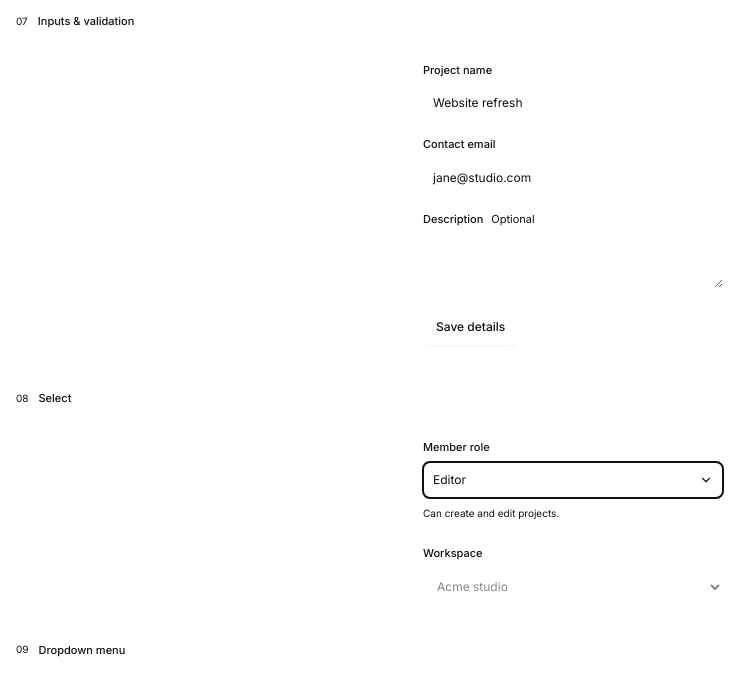
Scenario: Playground form components › supports role selection from the keyboard
Press Arrowdown
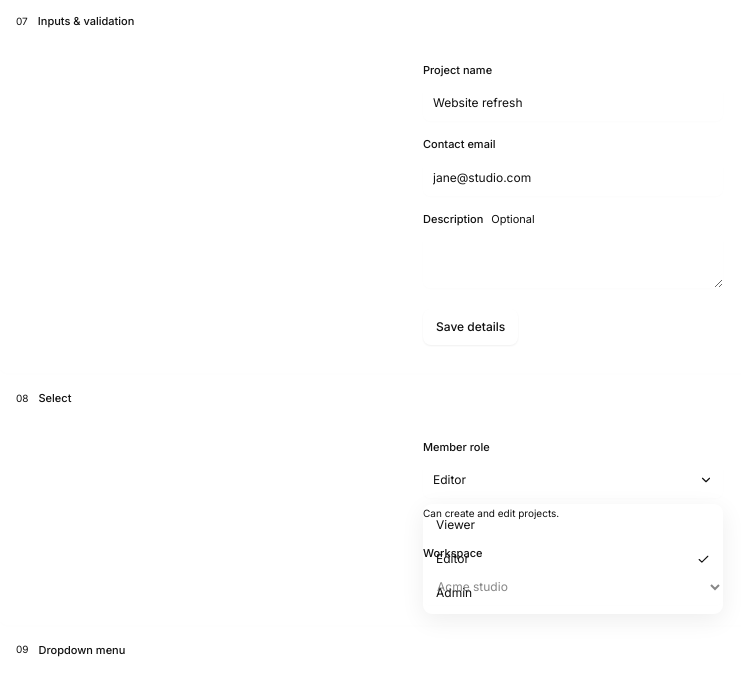
Click the option "Viewer" at x=456, y=524, box [436,517,475,532]
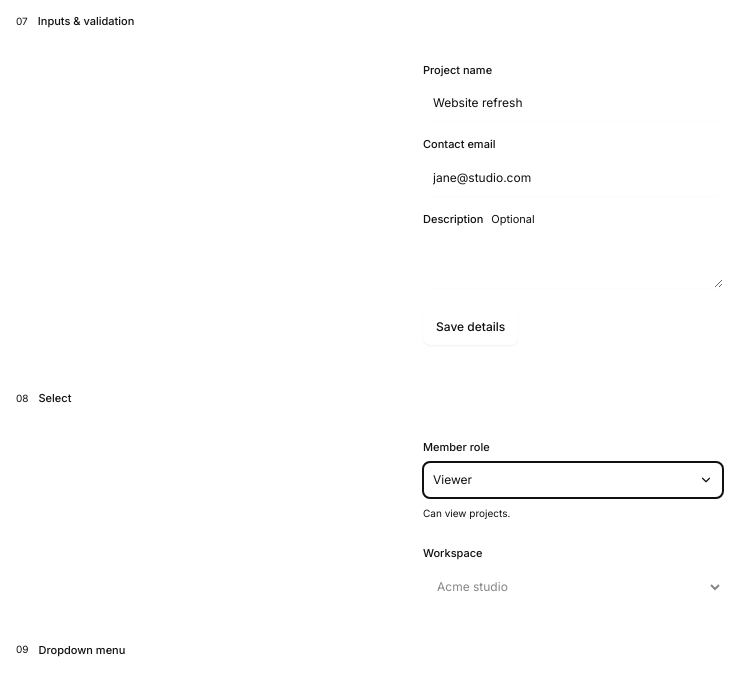
Expected: the dropdown labelled "Workspace" is disabled, [423,568,723,604]
Expected: the dropdown named "Member role" reads "Viewer", [423,462,723,498]
Expected: the text "Can view projects." is shown, [423,507,510,519]
